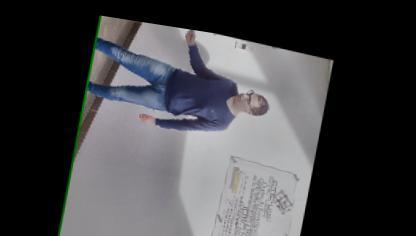knife: (184, 22, 201, 36)
